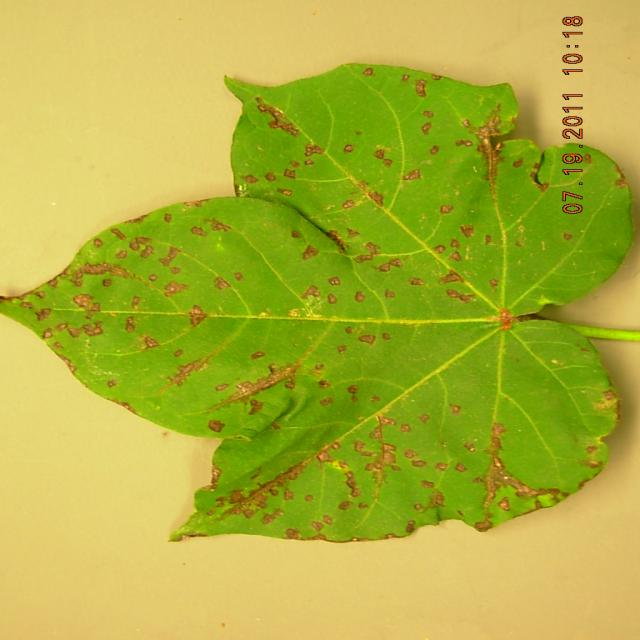Bacterial Blight: (120, 232, 477, 506)
